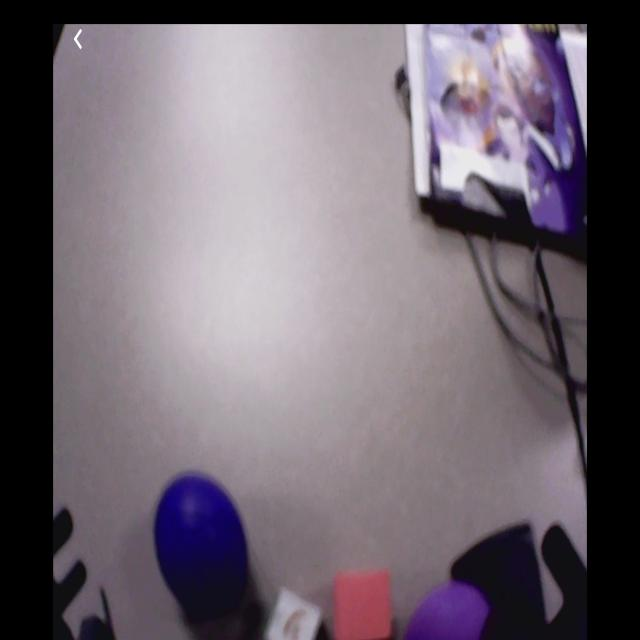ball: (155, 475, 253, 619), (402, 580, 494, 640)
